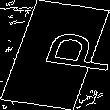P_W: (9, 31, 101, 79)
